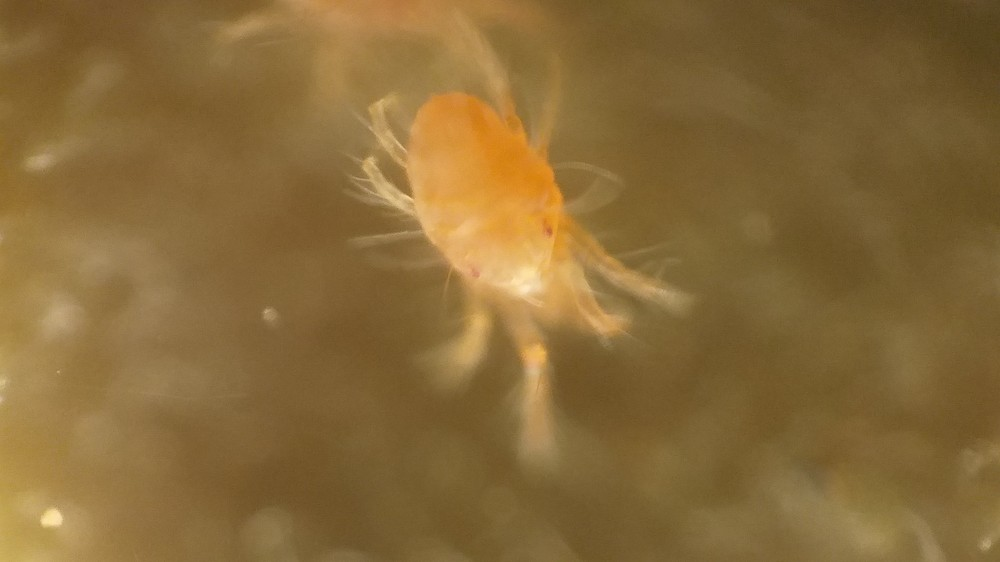Aracnido Rojo: (324, 47, 728, 465)
